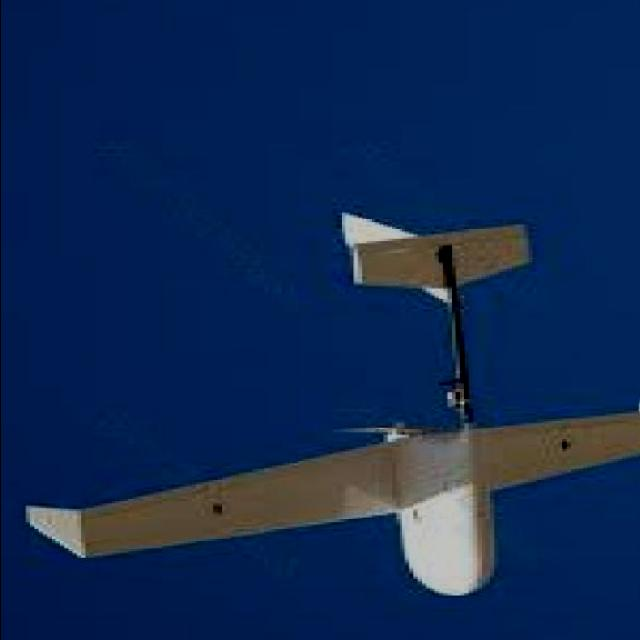plane: (21, 212, 640, 598)
